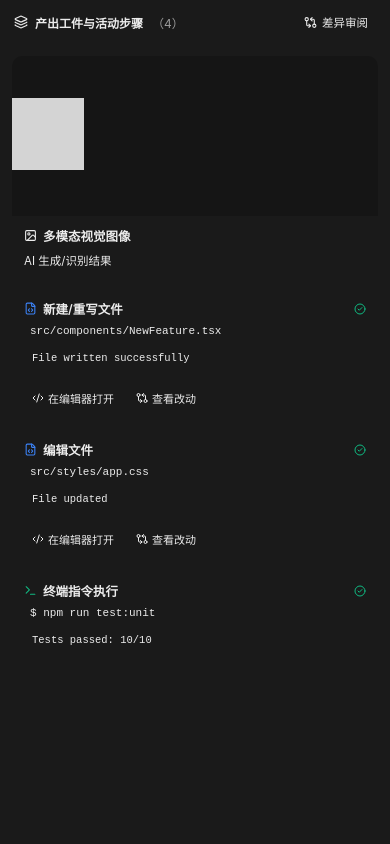
ArtifactsPaneView › extracts and renders images, file operations, and command executions
Expected: the text "产出工件与活动步骤" is shown, [35,14,143,30]
Expected: the text "（4）" is shown, [152,14,184,30]
Click the button "在编辑器打开" below "File written successfully": (73, 398) [24,386,122,410]
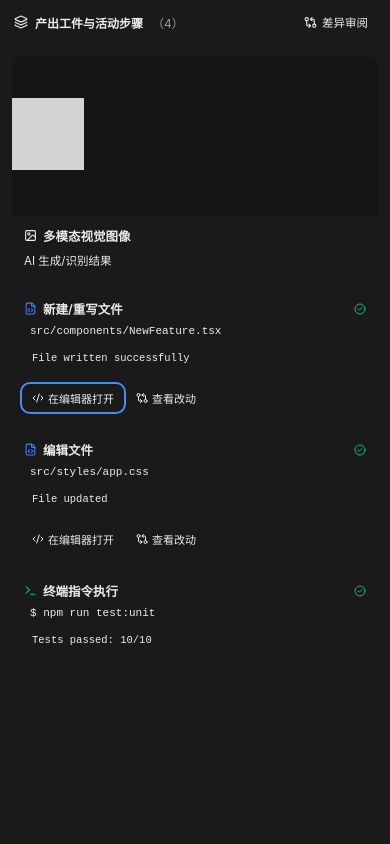
Click the button "查看改动" below "File written successfully": (166, 398) [128,386,204,410]
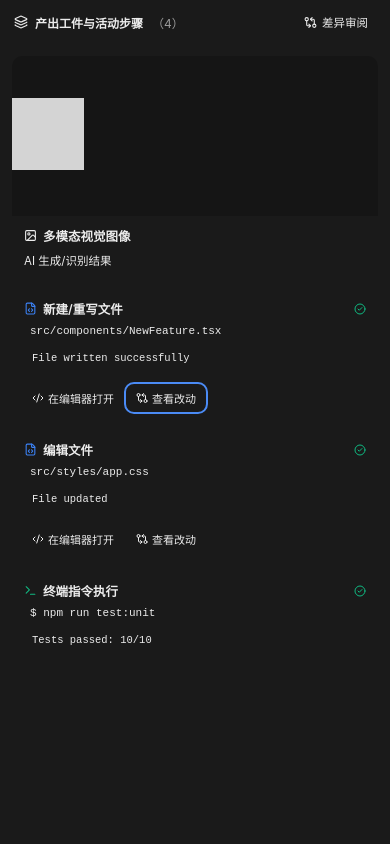
Note: 测试点击图片开启灯箱并在灯箱中关闭
Click the button named "查看图片全图": (48, 134) [12,56,378,216]
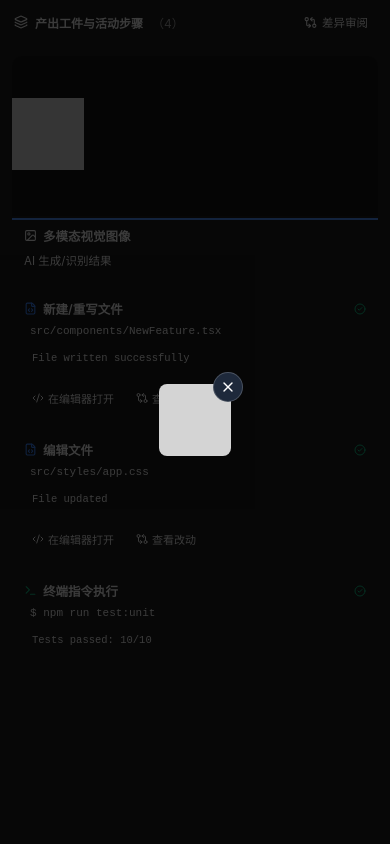
Result: the dialog named "图像全屏预览" is shown
Click the 2nd button titled "关闭预览 (Esc)": (228, 387) [213,372,243,402]
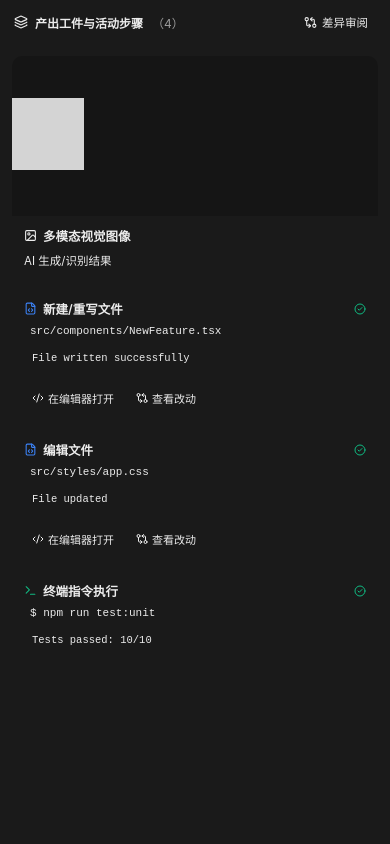
Result: the dialog "图像全屏预览" is gone
